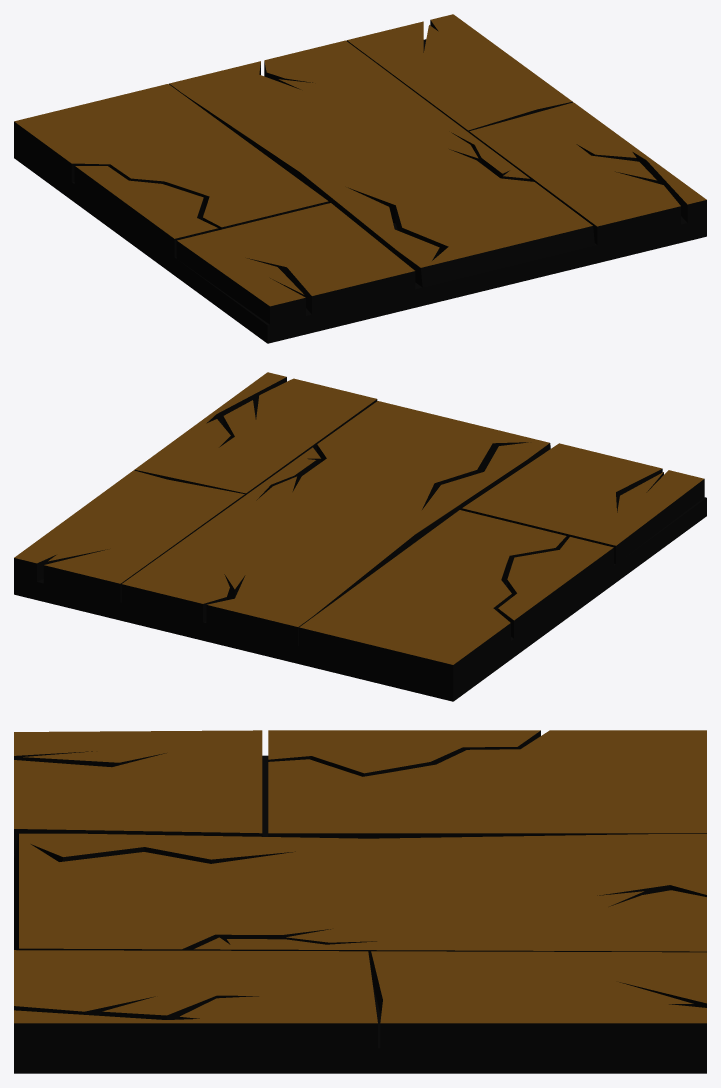
The model's file is degats_1.fbx.
3 renders of one model, top to bottom at view 1: azimuth 30°, elevation 25°; view 2: azimuth 150°, elevation 25°; view 3: azimuth 270°, elevation 25°, orthographic. The views are drawn at different scales.
Parts seen in each view (by area): view 1: Fisurée; view 2: Fisurée; view 3: Fisurée.
Part boxes in pixels (left/top/right/bottom): Fisurée: left=14, top=14, right=706, bottom=343; Fisurée: left=14, top=372, right=706, bottom=701; Fisurée: left=14, top=730, right=706, bottom=1073.
Size of the model in its own units: 50 by 50 by 4.
